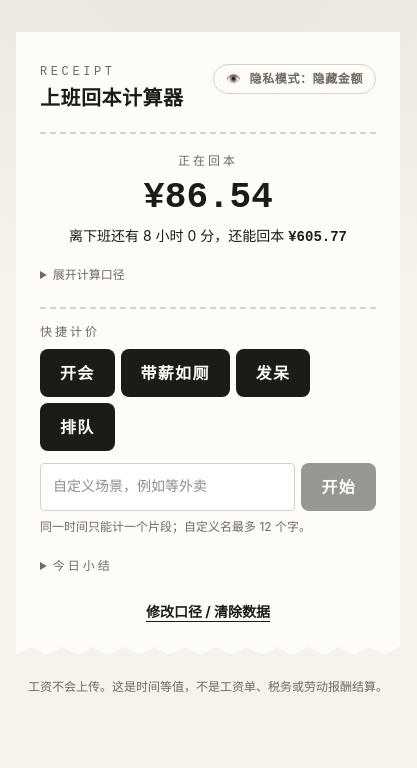
Scenario: App › 开始并结束片段：埋点只带场景枚举与时长桶，片段持久化
The image size is (417, 768).
Click the button "开会".
click(77, 373)  # box [40,349,115,397]
Wait 300000 ms
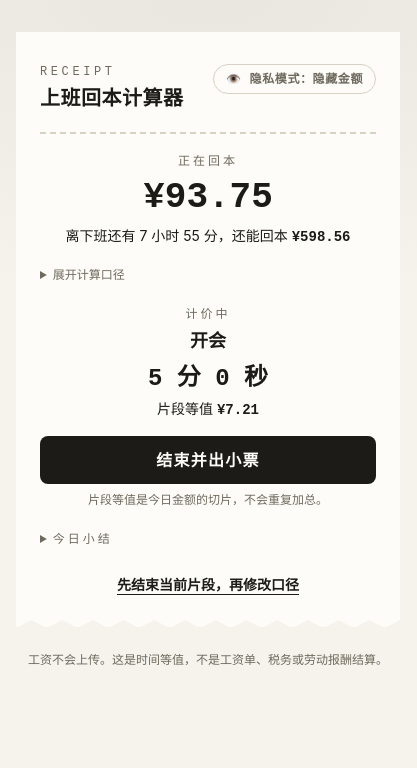
Check: the button "带薪如厕" is gone
Click the button "结束并出小票".
click(208, 460)  # box [40,436,376,484]
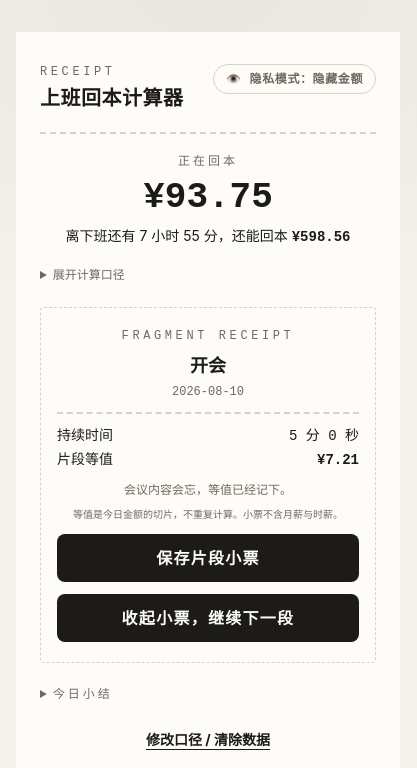
Check: the element named "片段小票" is shown, box [40,307,376,663]
